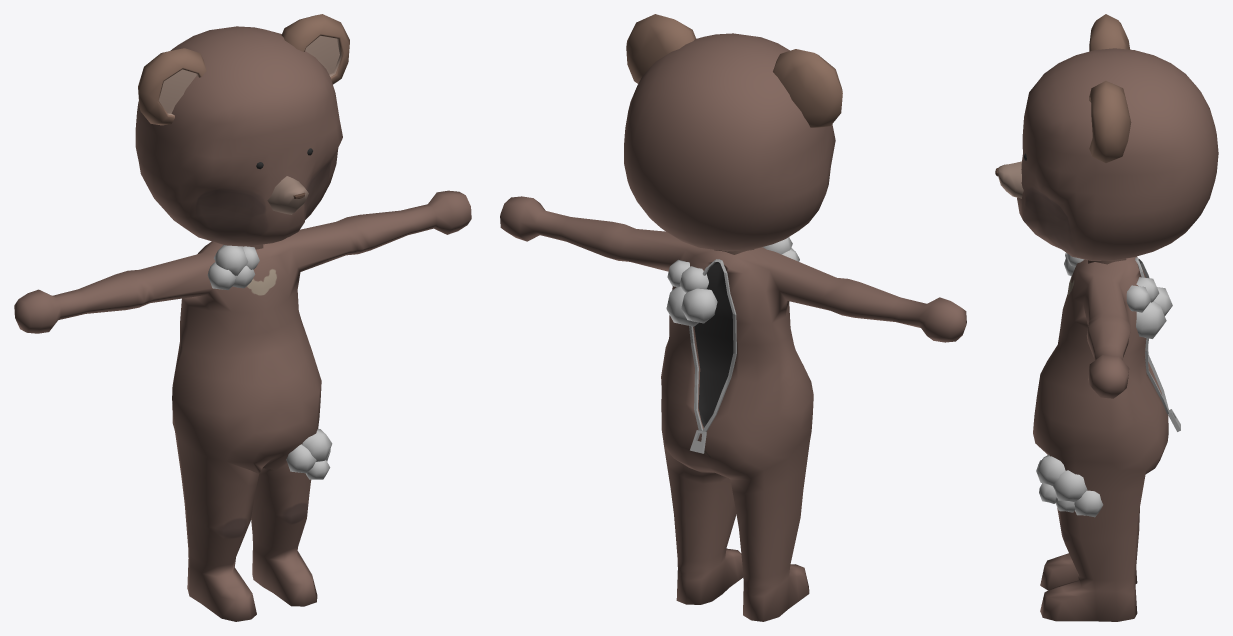
The model's file is bear_Model.fbx.
3 renders of one model, left to right at view 1: azimuth 30°, elevation 25°; view 2: azimuth 150°, elevation 25°; view 3: azimuth 270°, elevation 25°, orthographic. The views are drawn at different scales.
Visible parts, largest first — view 1: body, kao, pCube8, pCube12, hana; view 2: body, kao, pCube21, tyakku02; view 3: kao, body, pCube12, pCube21, hana, tyakku02.
Boxes of the visible parts, <box> form: body: <box>14,190,471,621</box>; kao: <box>135,14,349,246</box>; pCube8: <box>207,245,259,290</box>; pCube12: <box>286,429,332,479</box>; hana: <box>267,176,308,214</box>; body: <box>500,196,966,621</box>; kao: <box>624,14,842,251</box>; pCube21: <box>666,259,717,326</box>; tyakku02: <box>689,259,736,431</box>; kao: <box>1017,14,1218,260</box>; body: <box>1033,256,1168,621</box>; pCube12: <box>1036,454,1103,517</box>; pCube21: <box>1126,277,1172,338</box>; hana: <box>995,161,1023,198</box>; tyakku02: <box>1135,257,1169,414</box>.
Size of the model in its own units: 12 by 13.98 by 5.17.
2 materials, 1 textured.
